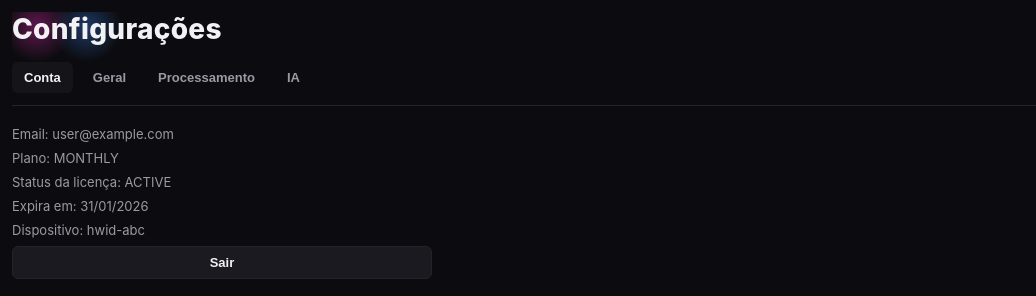
Test: SettingsPage — Processamento tab › shows FFmpeg's real status when available
The image size is (1036, 296).
Expected: the text "Email: user@example.com" is shown, 12,126 -> 174,142
Step 1. Click the button "Processamento" → x=206, y=78, box 146,62 -> 267,93
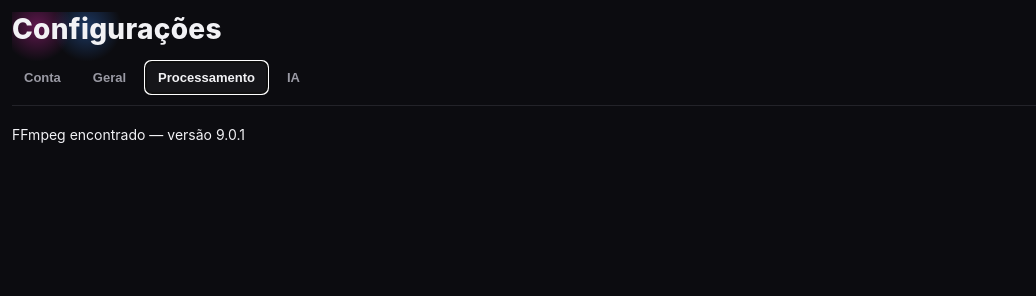
Result: the text "FFmpeg encontrado — versão 9.0.1" is shown at 12,126 -> 245,143
